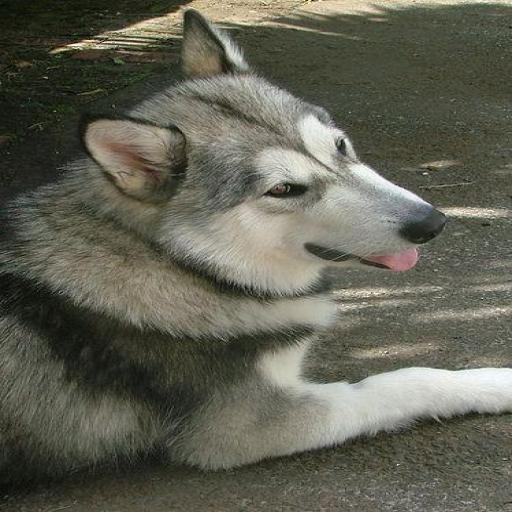dog_face: (88, 15, 444, 283)
